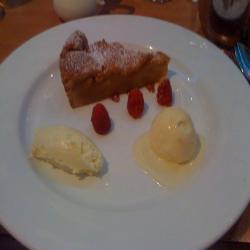apple_pie: (51, 28, 179, 115)
icecream: (25, 119, 110, 189), (137, 105, 201, 169)
